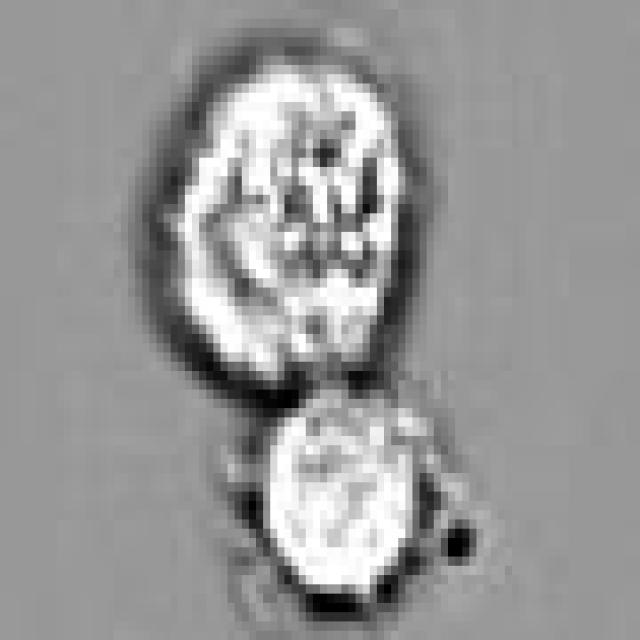Cancer Cell: (156, 56, 398, 390)
WBC: (263, 371, 427, 594)
